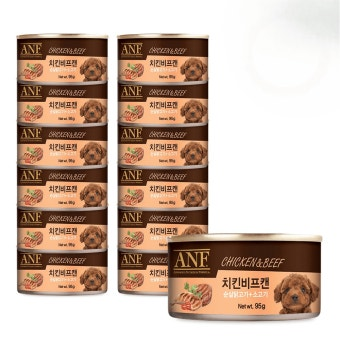paper: (13, 33, 209, 296), (167, 234, 326, 324)
